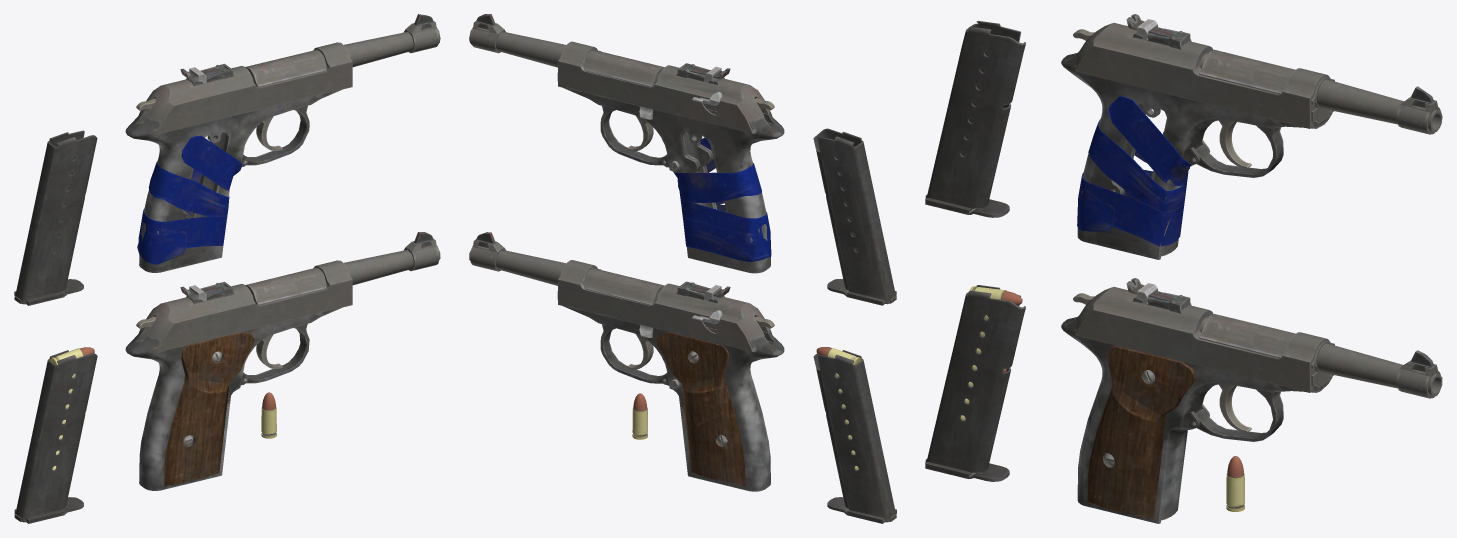
Rendered from service_pistol.glb.
3 renders of one model, left to right at view 1: azimuth 30°, elevation 25°; view 2: azimuth 150°, elevation 25°; view 3: azimuth 330°, elevation 25°, orthographic. The views are drawn at different scales.
Visible parts, largest first — view 1: service_pistol_pistol_b, service_pistol_pistol_a, service_pistol_magazine_loaded, service_pistol_magazine_empty, service_pistol_slide_a, service_pistol_slide_b, service_pistol_bullet; view 2: service_pistol_pistol_b, service_pistol_pistol_a, service_pistol_magazine_loaded, service_pistol_magazine_empty, service_pistol_slide_b, service_pistol_slide_a, service_pistol_bullet; view 3: service_pistol_pistol_a, service_pistol_pistol_b, service_pistol_magazine_loaded, service_pistol_magazine_empty, service_pistol_slide_b, service_pistol_slide_a, service_pistol_bullet, service_pistol_trigger_b, service_pistol_trigger_a.
Part boxes in pixels (box(x1,y1,x2,y2)): service_pistol_pistol_b: box(125, 14, 440, 272); service_pistol_pistol_a: box(125, 232, 440, 490); service_pistol_magazine_loaded: box(14, 347, 97, 523); service_pistol_magazine_empty: box(14, 130, 97, 305); service_pistol_slide_a: box(141, 260, 352, 352); service_pistol_slide_b: box(141, 42, 352, 134); service_pistol_bullet: box(261, 392, 276, 438); service_pistol_pistol_b: box(469, 14, 784, 273); service_pistol_pistol_a: box(469, 232, 784, 491); service_pistol_magazine_loaded: box(813, 347, 896, 523); service_pistol_magazine_empty: box(813, 128, 896, 305); service_pistol_slide_b: box(558, 41, 772, 133); service_pistol_slide_a: box(558, 260, 772, 351); service_pistol_bullet: box(632, 393, 647, 439); service_pistol_pistol_a: box(1061, 313, 1442, 523); service_pistol_pistol_b: box(1061, 49, 1442, 259); service_pistol_magazine_loaded: box(925, 285, 1025, 481); service_pistol_magazine_empty: box(925, 21, 1025, 217); service_pistol_slide_b: box(1074, 14, 1334, 128); service_pistol_slide_a: box(1074, 278, 1334, 392); service_pistol_bullet: box(1226, 456, 1244, 511); service_pistol_trigger_b: box(1218, 120, 1251, 168); service_pistol_trigger_a: box(1218, 384, 1251, 432).
Size of the model in its own units: 0.3016 by 0.2807 by 0.0318.
1 material, 1 textured.
